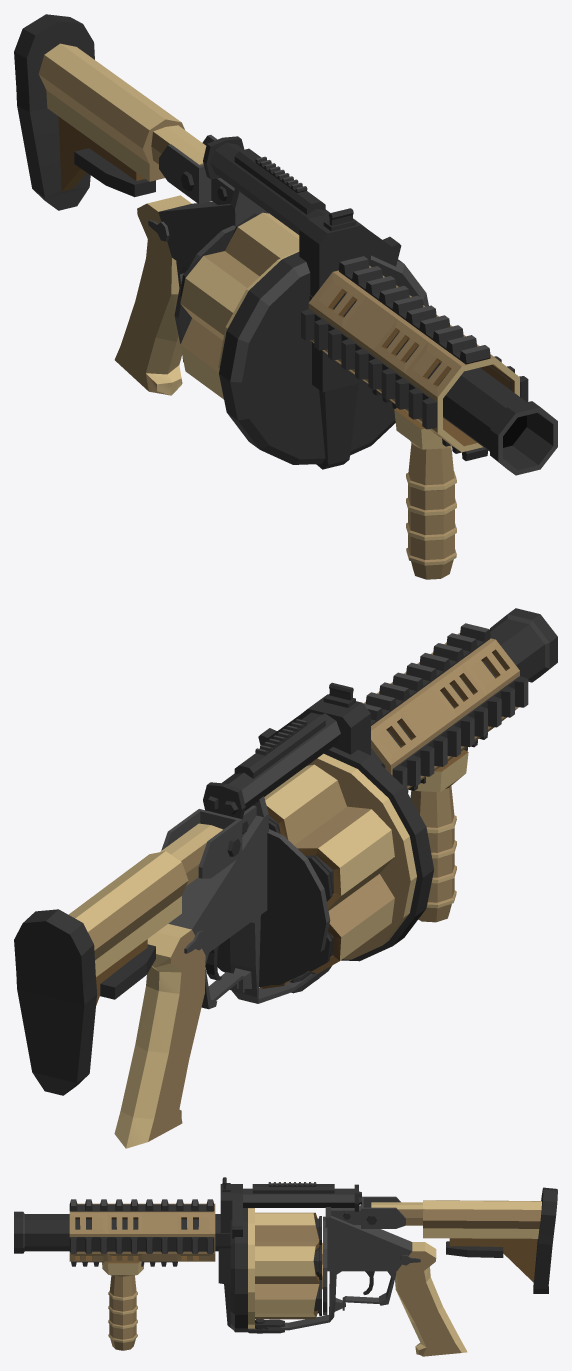
The model's file is Launcher.FBX.
The picture shows the model from 3 angles, top to bottom: view 1: azimuth 30°, elevation 25°; view 2: azimuth 150°, elevation 25°; view 3: azimuth 270°, elevation 25°; orthographic projection. The views are drawn at different scales.
Parts seen in each view (by area): view 1: Launcher; view 2: Launcher; view 3: Launcher.
Boxes of the visible parts, <box> form: Launcher: <box>14,14,557,579</box>; Launcher: <box>14,608,557,1148</box>; Launcher: <box>14,1177,557,1356</box>.
Bounding box in the file's own units: 0.1625 × 0.2377 × 0.6653.
Materials: 1 (1 with a texture image).
